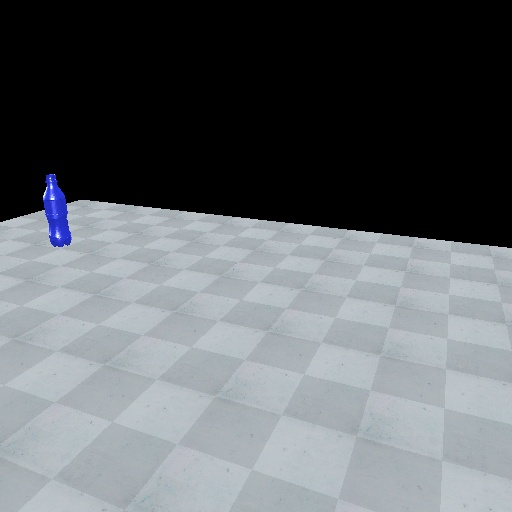bottle: (38, 170, 75, 250)
